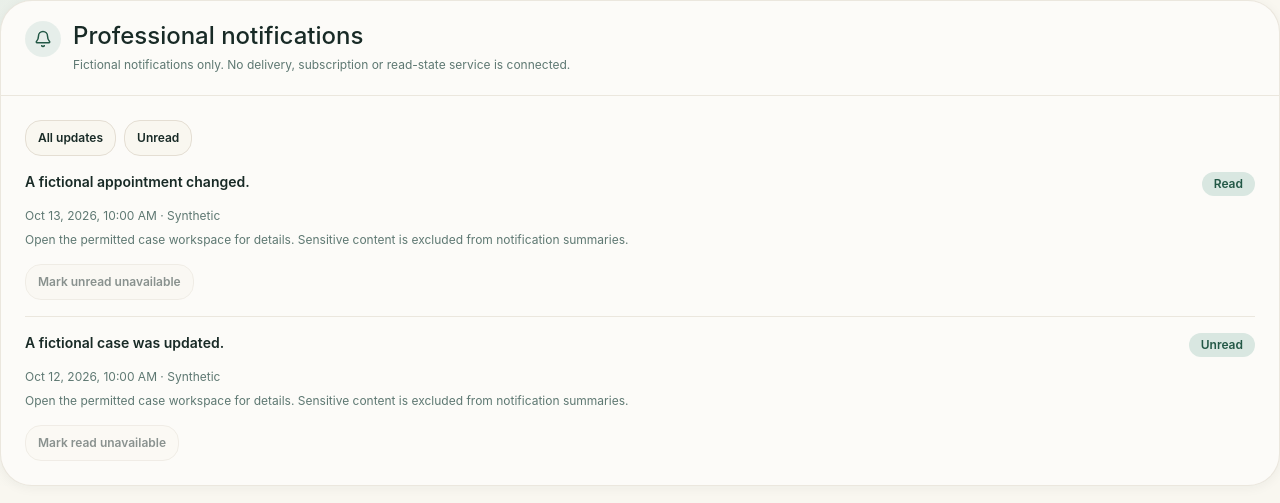
it: FE-024 isolated professional notifications › orders and filters synthetic read/unread states without mutating them
The width and height of the screenshot is (1280, 503).
Expected: the list item that starts with "A fictional appointment changed." is shown, [25,173,250,190]
Expected: the button "Mark read unavailable" is disabled, [25,425,179,461]
Click the button "Unread": (158, 138) [124,120,192,156]
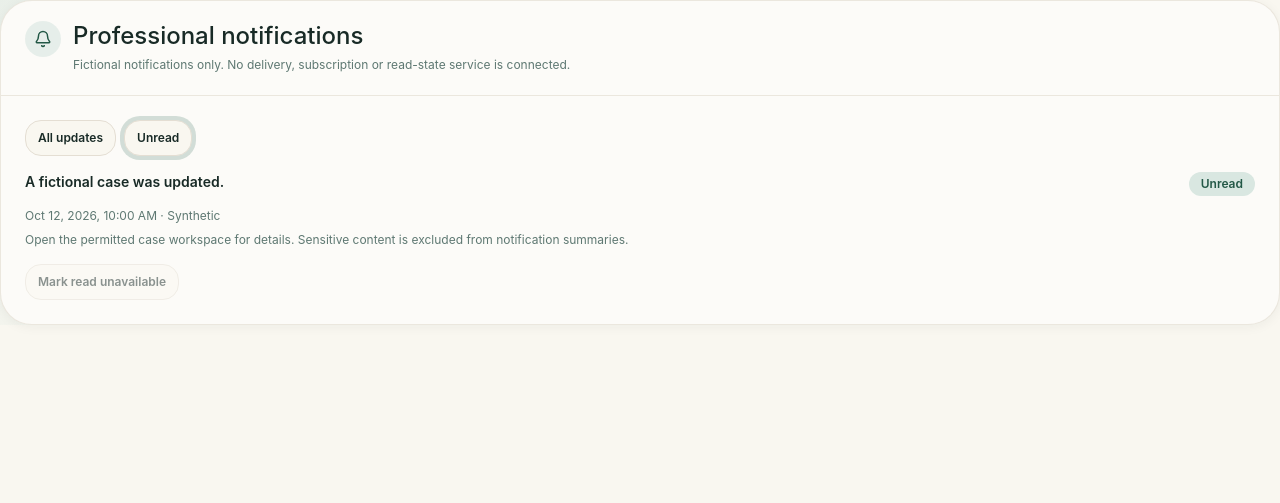
Result: the number of list items is 1 at [25,172,1255,300]
